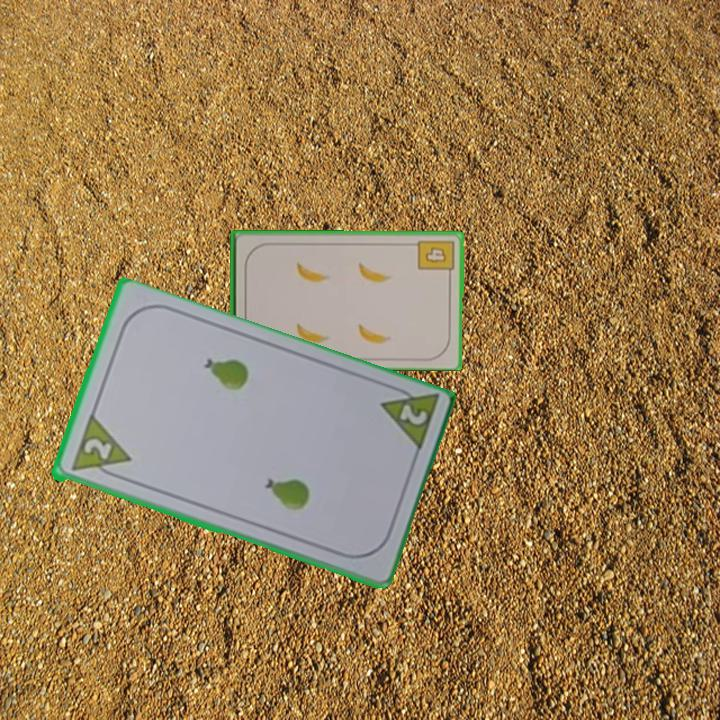2p: (79, 434, 114, 463), (395, 400, 430, 429)
4b: (414, 237, 456, 279)
